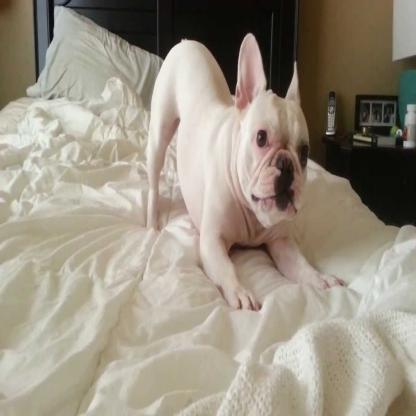dog: (139, 30, 350, 316)
